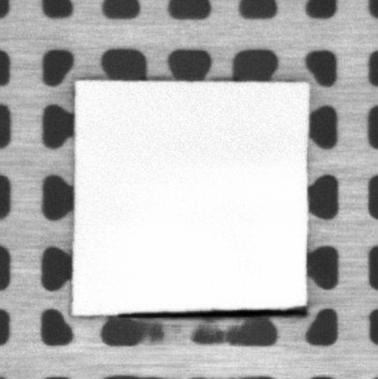DIE_BROKEN: (119, 304, 309, 318)
